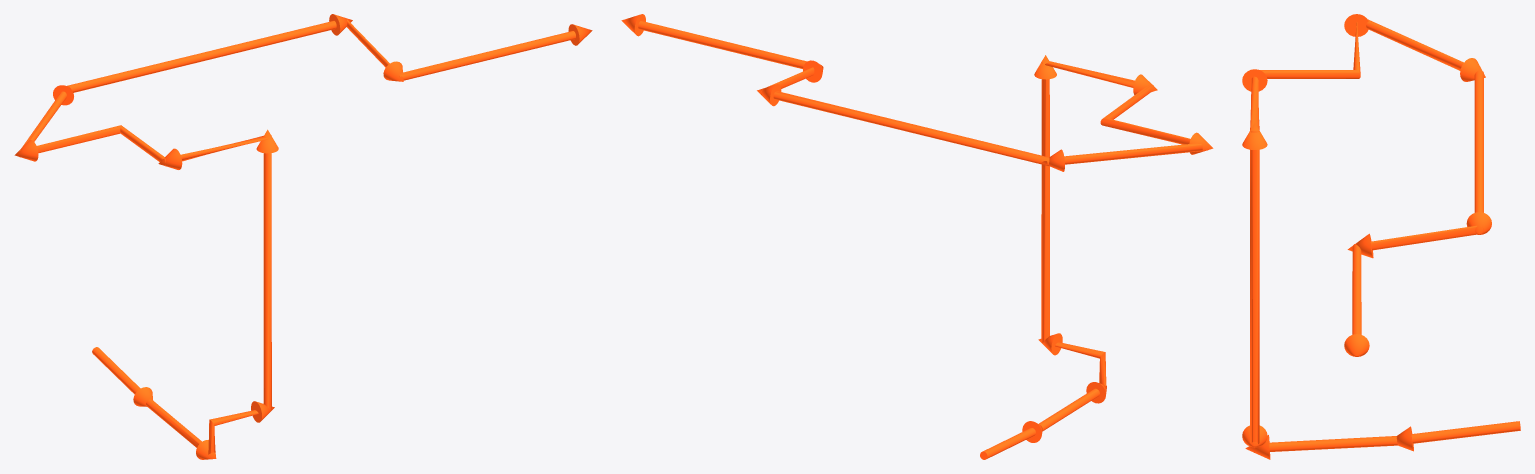
The model's file is lubricating_oil_pump_flow.glb.
3 views of the same model, side by side, from view 1: azimuth 30°, elevation 25°; view 2: azimuth 150°, elevation 25°; view 3: azimuth 270°, elevation 25° (orthographic). The views are drawn at different scales.
Parts seen in each view (by area): view 1: flow_oil; view 2: flow_oil; view 3: flow_oil.
Part boxes in pixels (left/top/right/bottom): flow_oil: left=14, top=14, right=592, bottom=459; flow_oil: left=621, top=14, right=1213, bottom=459; flow_oil: left=1242, top=14, right=1520, bottom=459.
Bounding box in the file's own units: 1.87 × 1 × 0.6828.
